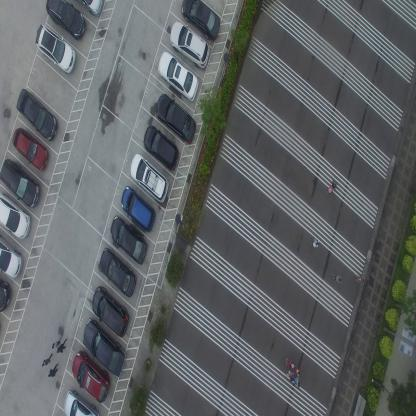car: (83, 317, 126, 376), (16, 87, 58, 142), (158, 50, 199, 103), (35, 23, 76, 74), (170, 19, 210, 71), (156, 93, 196, 145), (129, 152, 169, 204), (98, 246, 137, 298), (109, 215, 148, 266), (72, 350, 110, 402), (92, 285, 129, 338), (0, 158, 40, 207), (143, 124, 179, 172), (120, 185, 156, 233), (11, 126, 48, 172), (45, 0, 86, 41), (181, 0, 220, 41), (0, 191, 30, 241), (0, 232, 23, 280), (62, 390, 100, 415), (77, 0, 103, 18), (0, 278, 11, 312)
